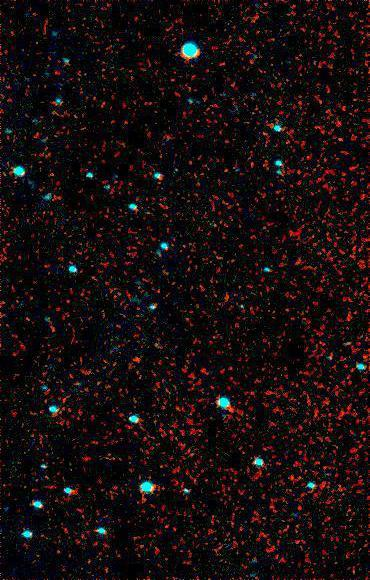star: (119, 349, 149, 379)
